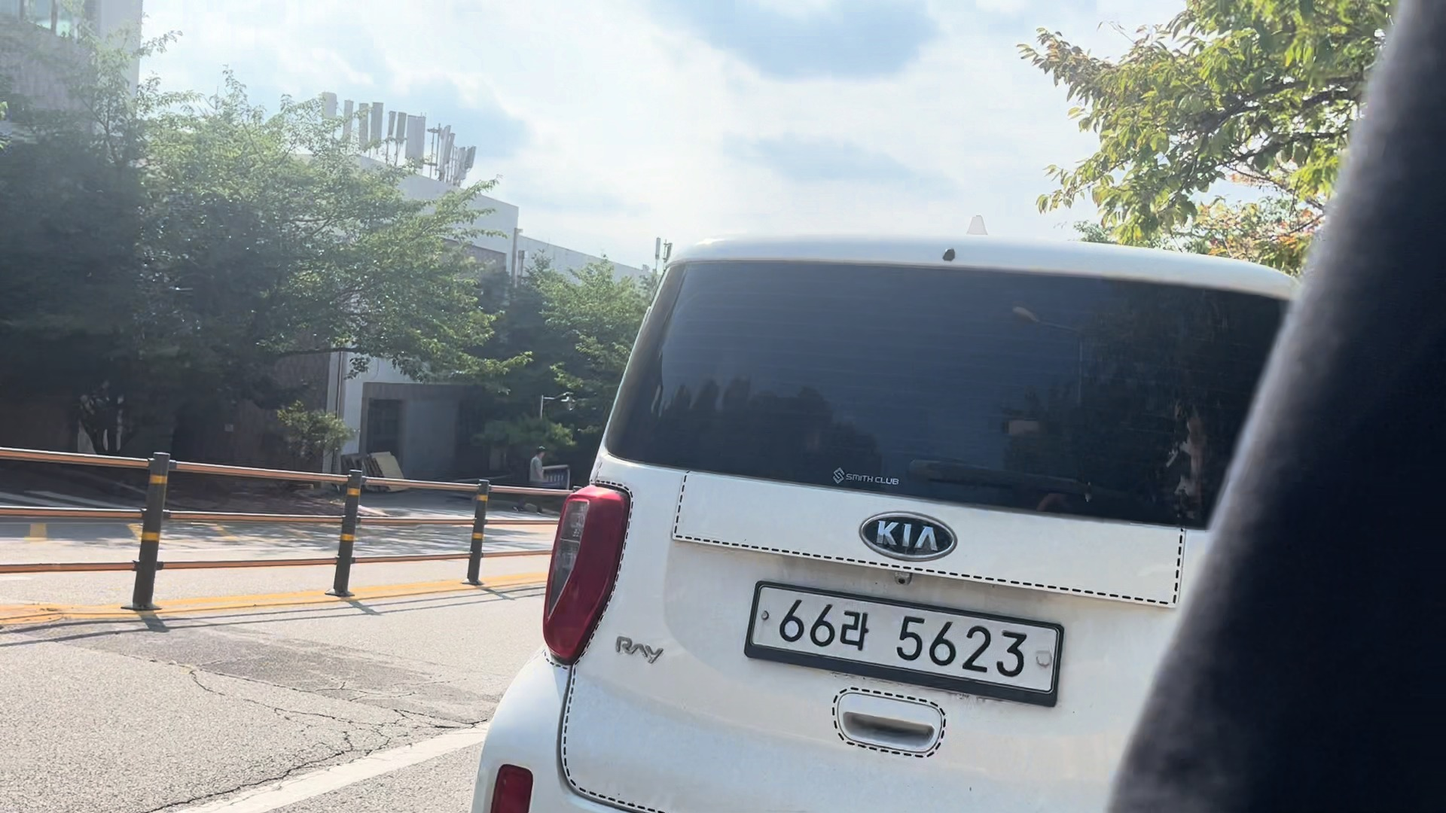car_emblem: (862, 511, 955, 561)
license_plate: (745, 582, 1062, 705)
tail_light: (544, 486, 627, 663), (490, 764, 532, 812)
